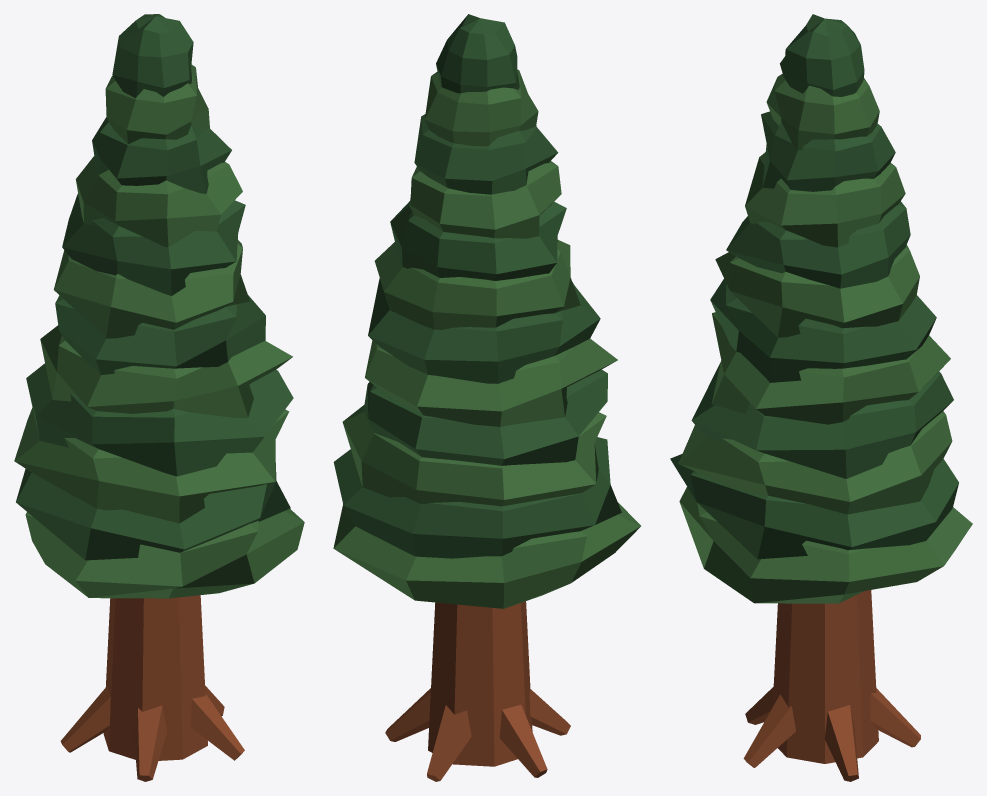
The model's file is tree_sequoia_huge.glb.
3 renders of one model, left to right at view 1: azimuth 30°, elevation 25°; view 2: azimuth 150°, elevation 25°; view 3: azimuth 270°, elevation 25°, orthographic.
Visible parts, largest first — view 1: tree_sequoia_huge; view 2: tree_sequoia_huge; view 3: tree_sequoia_huge.
Boxes of the visible parts, box(x1,y1,x2,y2) form: tree_sequoia_huge: box(14, 14, 304, 781); tree_sequoia_huge: box(333, 14, 640, 781); tree_sequoia_huge: box(670, 14, 972, 781).
Bounding box in the file's own units: 12.69 × 33.85 × 12.76.
